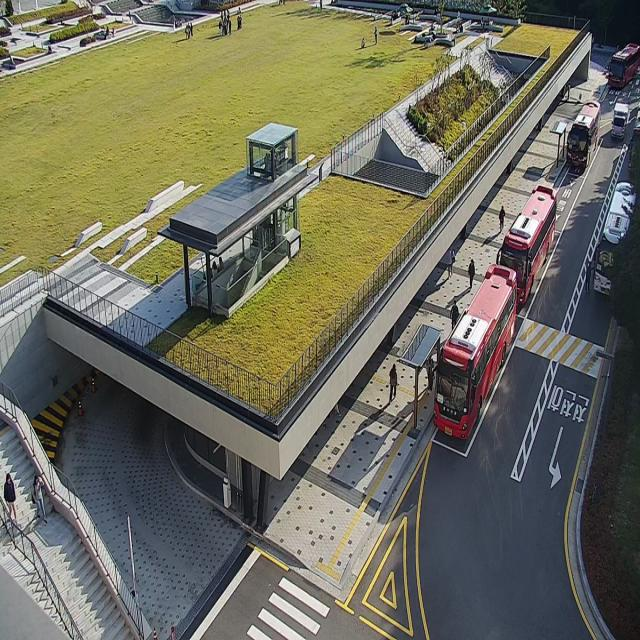queue: (415, 332, 439, 434)
